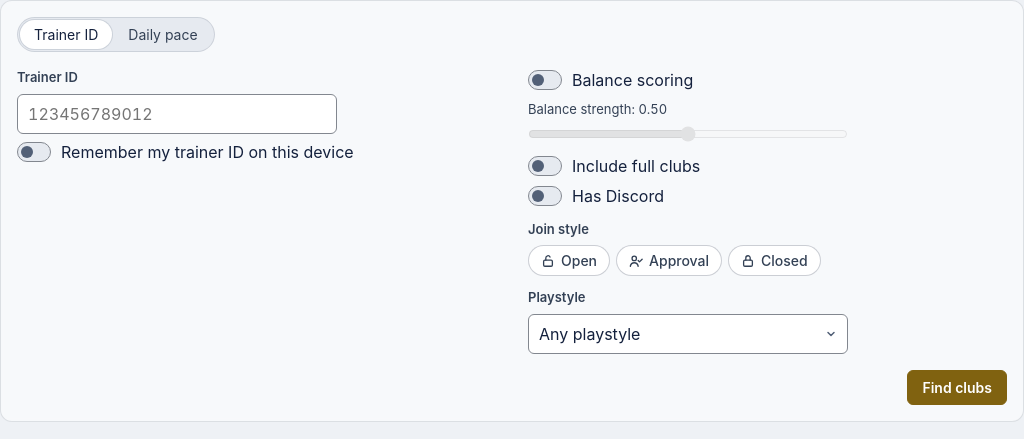
SearchForm › switches to pace and validates it
Click the radio button labelled "Daily pace" at [163, 34], box [128,26,198,43]
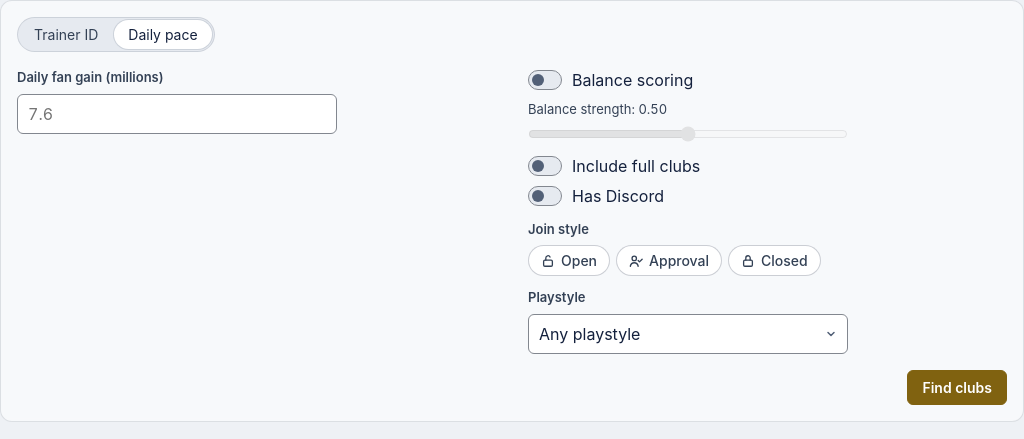
Type "fast" into the field labelled "Daily fan gain (millions)" at [177, 114], box [17,94,337,134]
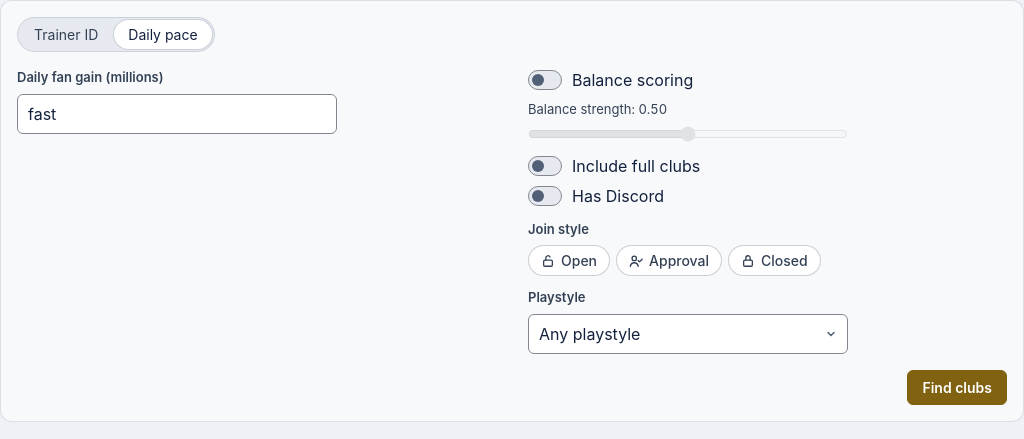
Click the button "Find clubs" at [957, 387], box [908,370,1007,404]
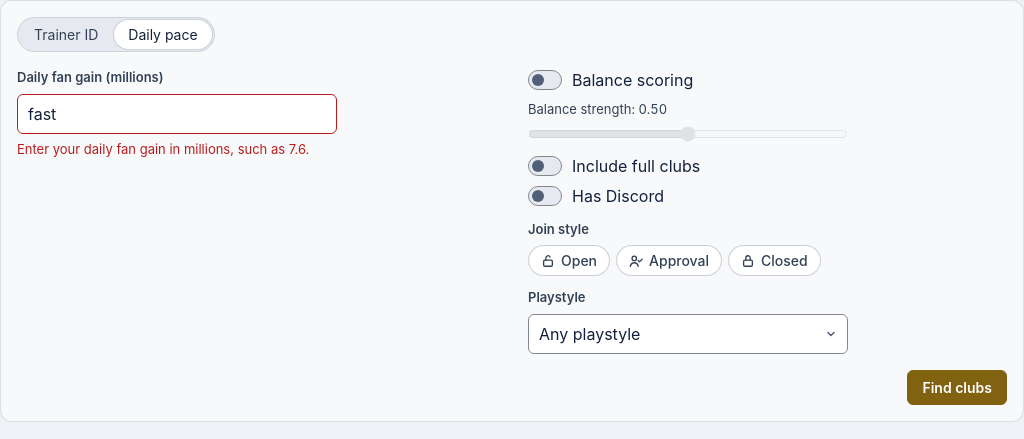
Expected: the text "Enter your daily fan gain in millions, such as 7.6." is shown, [17,140,309,156]
Replace the text in the field labelled "Daily fan gain (millions)" with "7.6" at [177, 114], box [17,94,337,134]
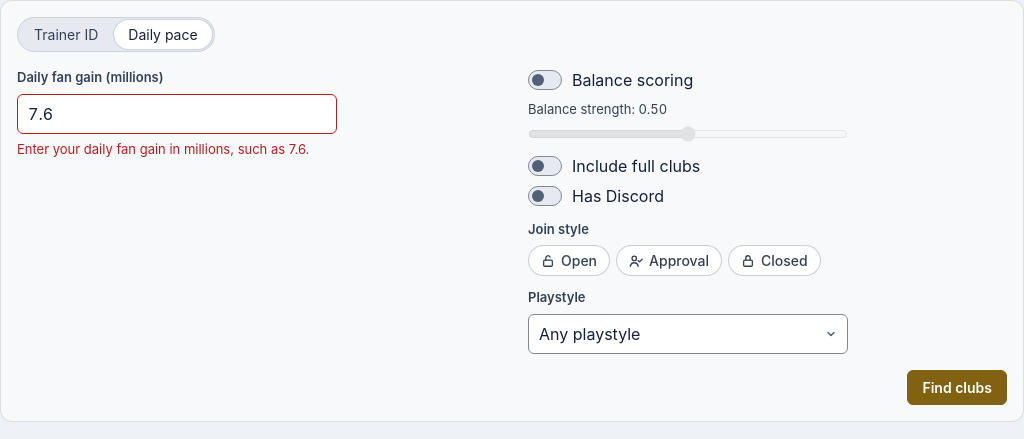
Click the button "Find clubs" at [957, 387], box [908,370,1007,404]
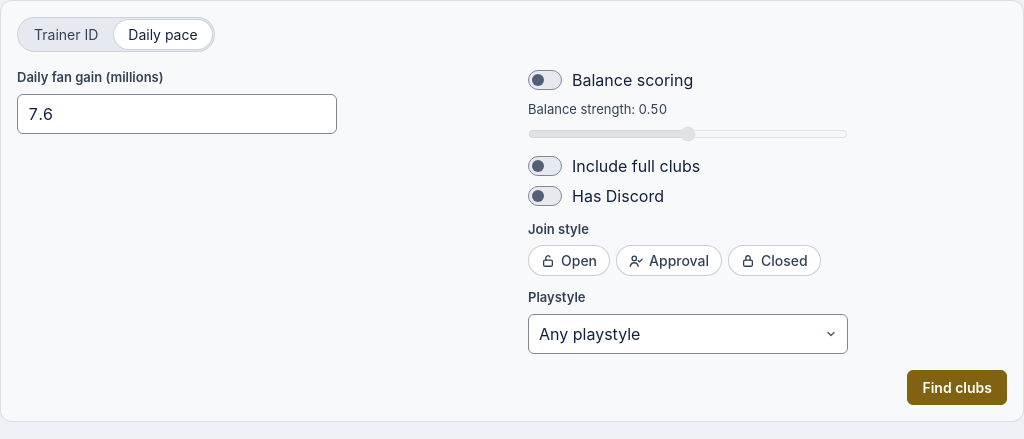
Expected: the text "Enter your daily fan gain in millions, such as 7.6." is gone
